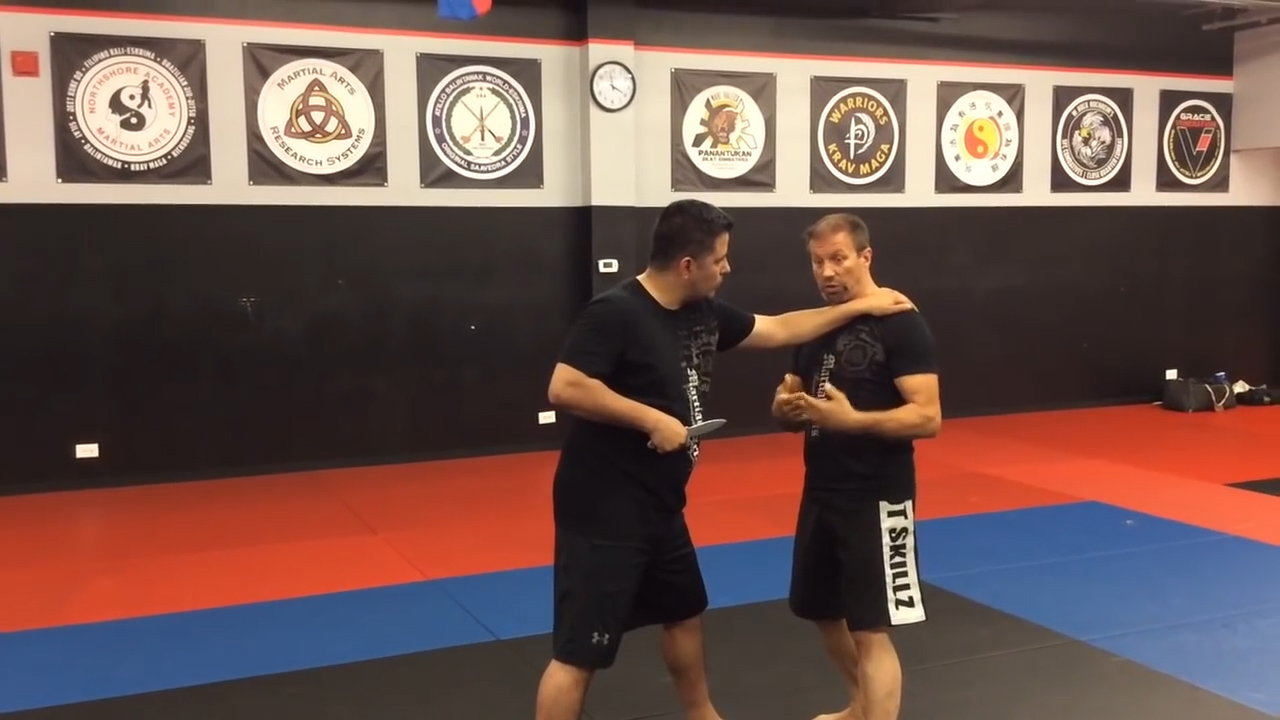knife: (643, 414, 729, 456)
